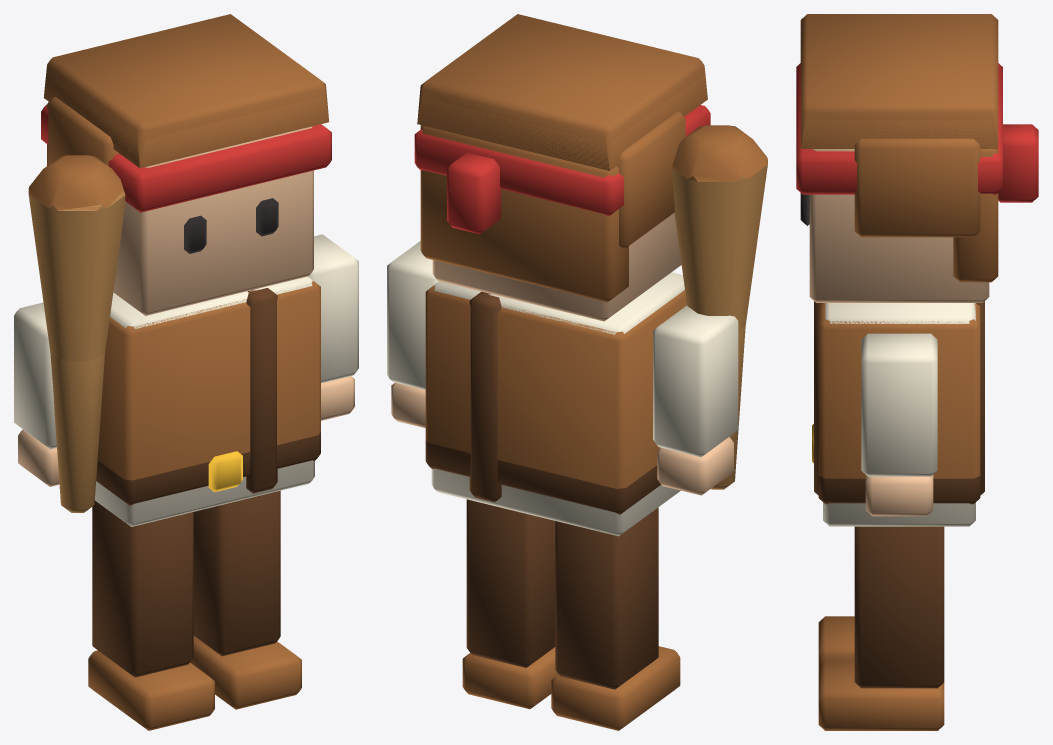
Rendered from H_MedMilitia.fbx.
3 renders of one model, left to right at view 1: azimuth 30°, elevation 25°; view 2: azimuth 150°, elevation 25°; view 3: azimuth 270°, elevation 25°, orthographic. The views are drawn at different scales.
Parts seen in each view (by area): view 1: M_Militia; view 2: M_Militia; view 3: M_Militia.
Part boxes in pixels (x1,y1,x2,y2): M_Militia: (14,14,358,730); M_Militia: (387,14,767,730); M_Militia: (796,14,1038,730).
Size of the model in its own units: 0.8639 by 1.56 by 0.54.
Materials: 1 (1 with a texture image).
